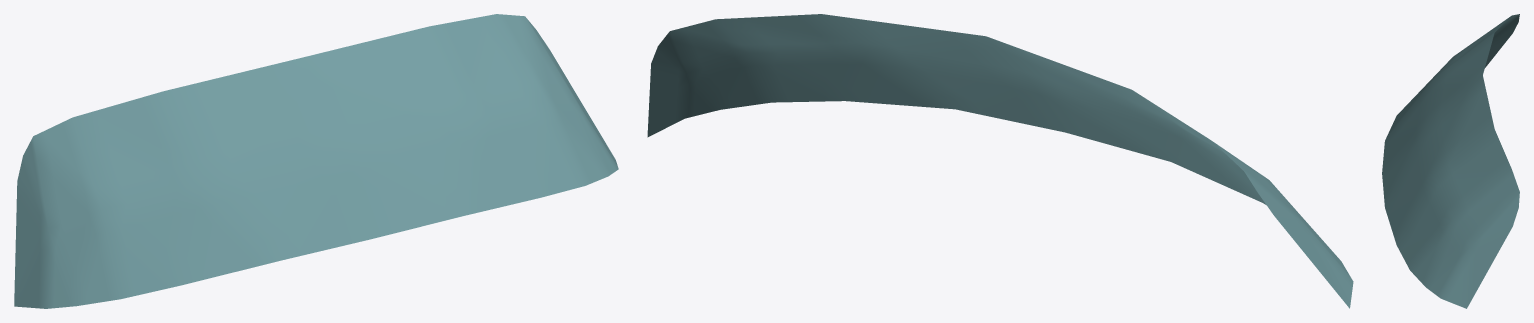
Rendered from OldSchool_1_Window_F_Tessellate.fbx.
The picture shows the model from 3 angles, left to right: view 1: azimuth 30°, elevation 25°; view 2: azimuth 150°, elevation 25°; view 3: azimuth 270°, elevation 25°; orthographic projection. The views are drawn at different scales.
Parts seen in each view (by area): view 1: OldSchool_1_Window_F_Tessellate; view 2: OldSchool_1_Window_F_Tessellate; view 3: OldSchool_1_Window_F_Tessellate.
Part boxes in pixels (box(x1,y1,x2,y2)): OldSchool_1_Window_F_Tessellate: box(14, 14, 618, 308); OldSchool_1_Window_F_Tessellate: box(647, 14, 1353, 308); OldSchool_1_Window_F_Tessellate: box(1382, 14, 1519, 308).
Bounding box in the file's own units: 1381 × 369 × 370.
